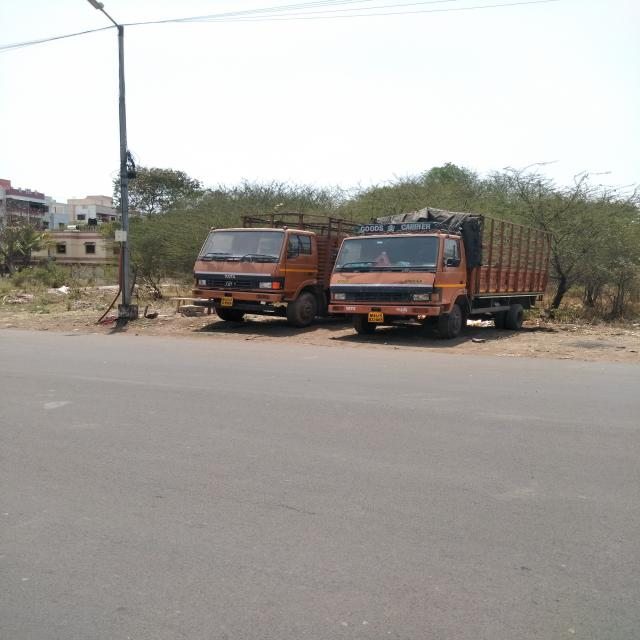truck: (327, 209, 556, 338), (190, 212, 328, 326)
